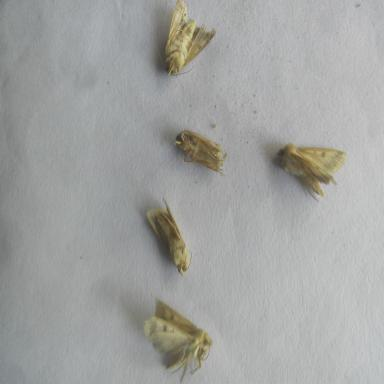abw: (140, 293, 215, 383), (271, 138, 350, 211), (153, 1, 219, 82), (143, 190, 196, 276), (170, 126, 231, 178)
